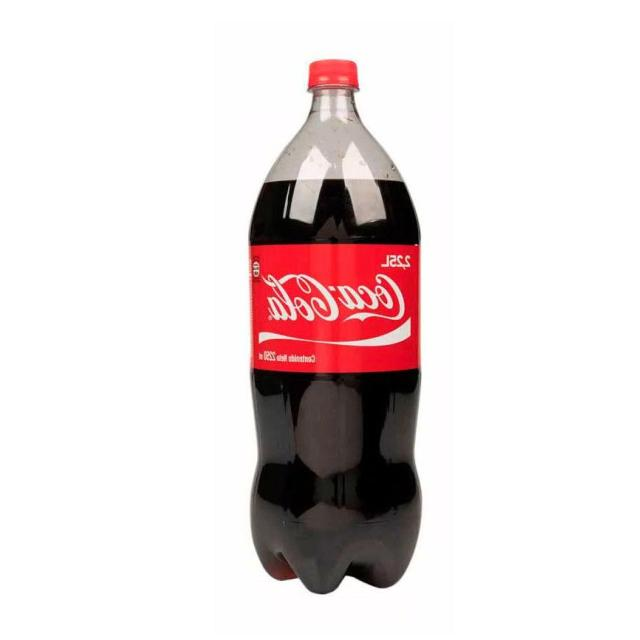coca-cola: (241, 52, 435, 597)
